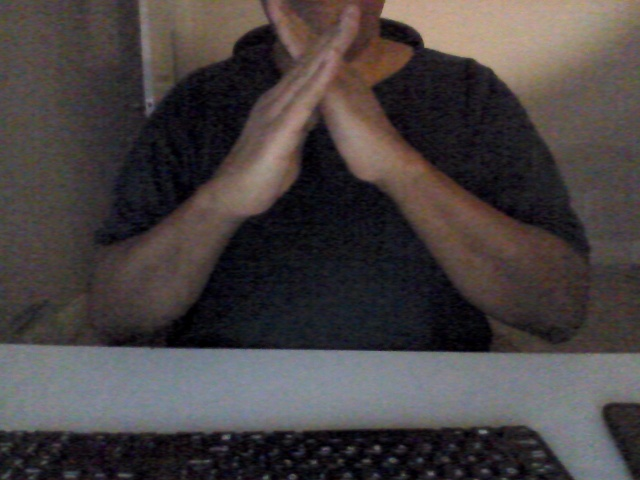quiet: (223, 1, 398, 224)
